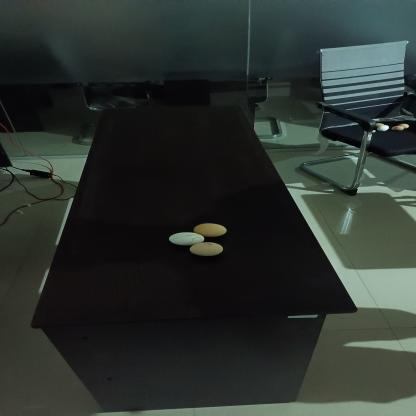egg: (168, 232, 207, 246), (192, 223, 228, 238), (188, 242, 226, 256)
